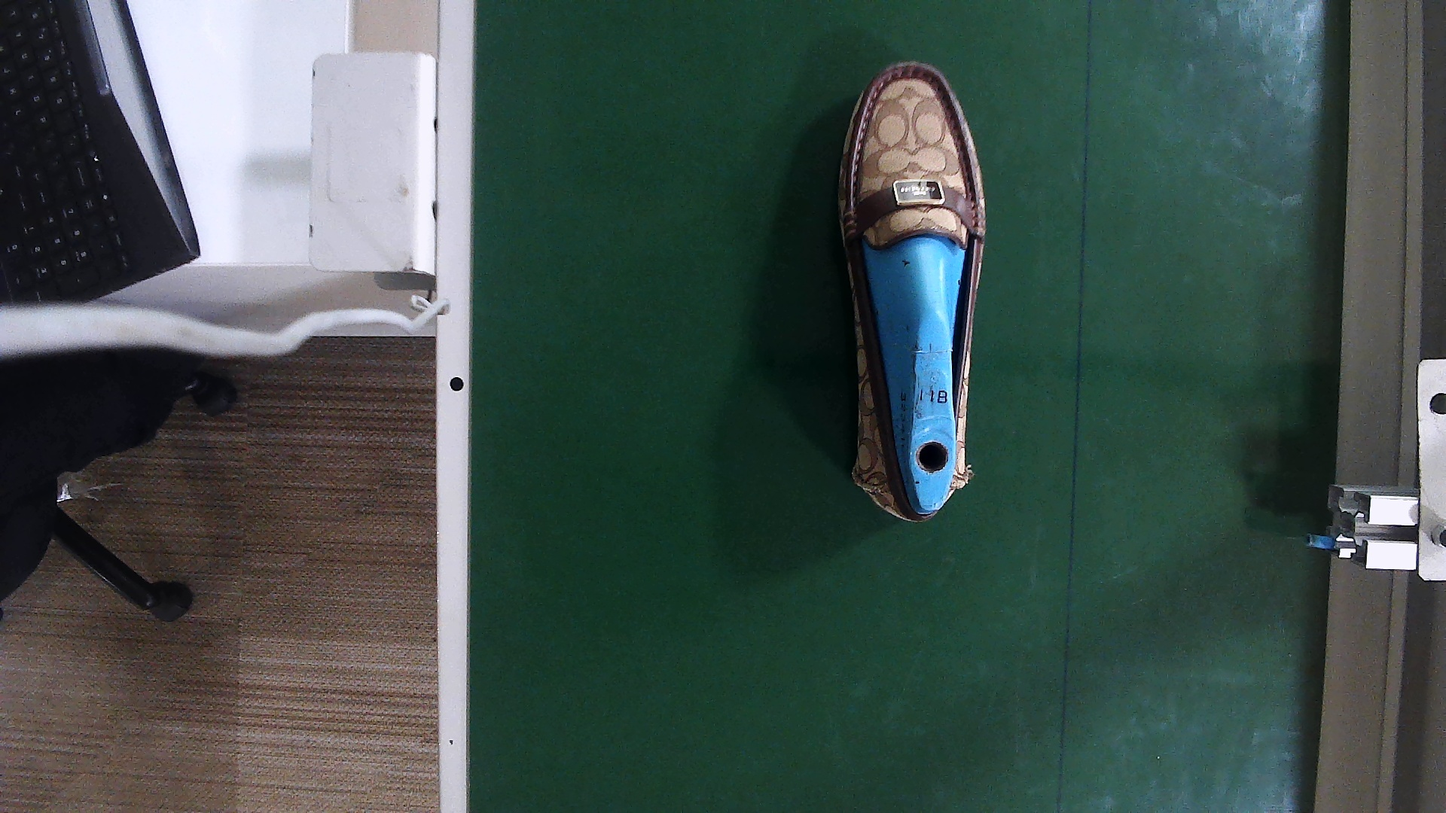shoe: (844, 64, 984, 521)
